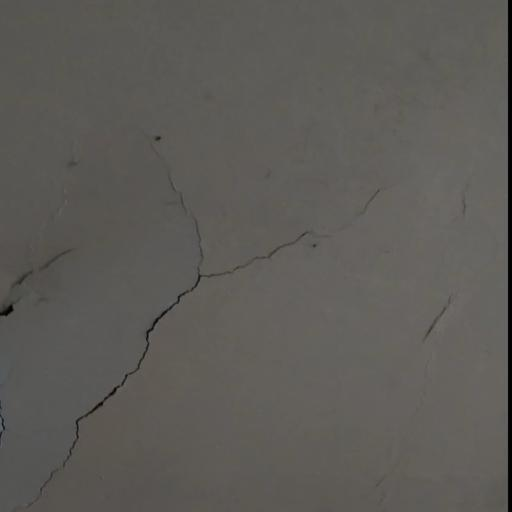minor_crack: (22, 95, 397, 512)
